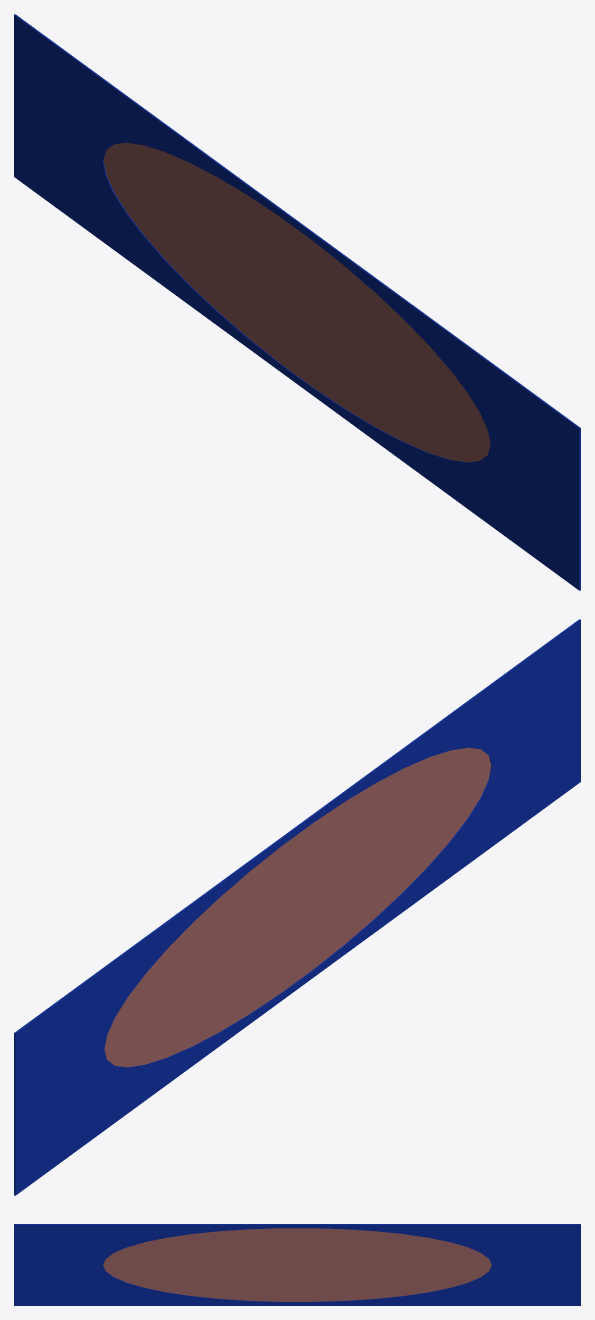
Rendered from 10X63 the big oval.FBX.
3 views of the same model, one above another, from view 1: azimuth 30°, elevation 25°; view 2: azimuth 150°, elevation 25°; view 3: azimuth 270°, elevation 25° (orthographic). The views are drawn at different scales.
Parts seen in each view (by area): view 1: Med Wall Large oval Window001; view 2: Med Wall Large oval Window001; view 3: Med Wall Large oval Window001.
Boxes of the visible parts, x1,y1,x2,y2 form: Med Wall Large oval Window001: [14, 14, 580, 590]; Med Wall Large oval Window001: [14, 619, 580, 1195]; Med Wall Large oval Window001: [14, 1224, 580, 1305].
Bounding box in the file's own units: 0.1 × 10 × 63.15.
